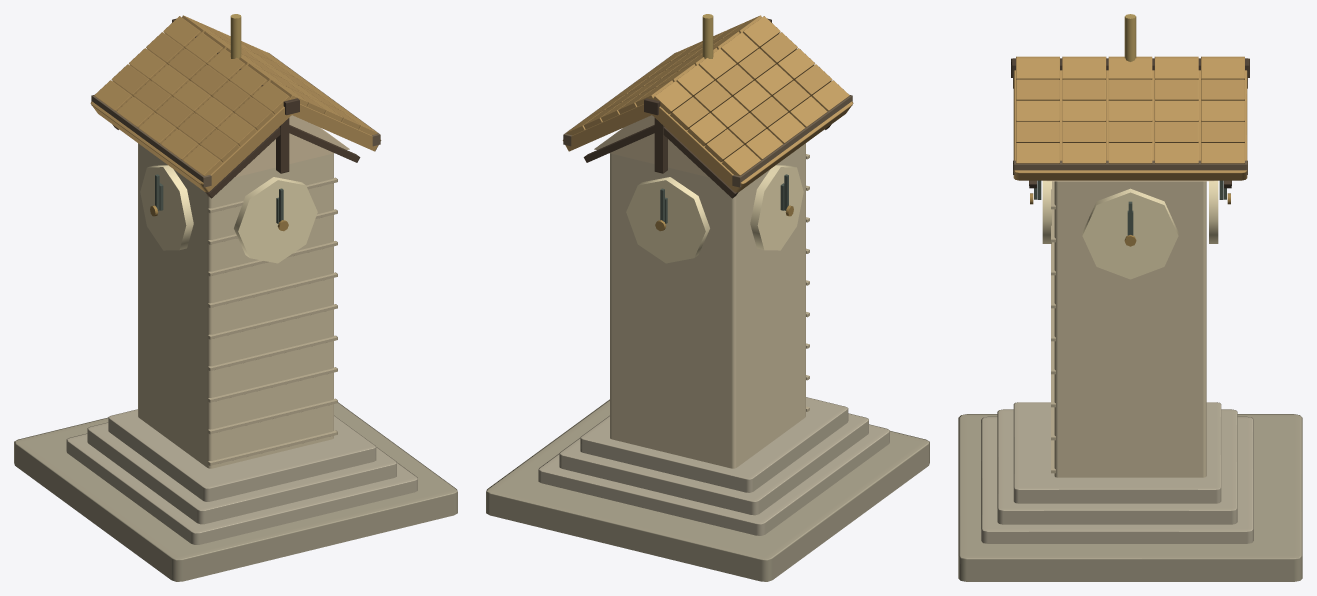
The model's file is clock-3.glb.
3 views of the same model, side by side, from view 1: azimuth 30°, elevation 25°; view 2: azimuth 150°, elevation 25°; view 3: azimuth 270°, elevation 25° (orthographic). The views are drawn at different scales.
Parts seen in each view (by area): view 1: clock-3-0; view 2: clock-3-0; view 3: clock-3-0.
Part boxes in pixels (x1=…): clock-3-0: x1=14, y1=14, x2=457, y2=581; clock-3-0: x1=486, y1=14, x2=929, y2=581; clock-3-0: x1=958, y1=14, x2=1302, y2=581.
Size of the model in its own units: 2.65 by 4.19 by 2.65.
